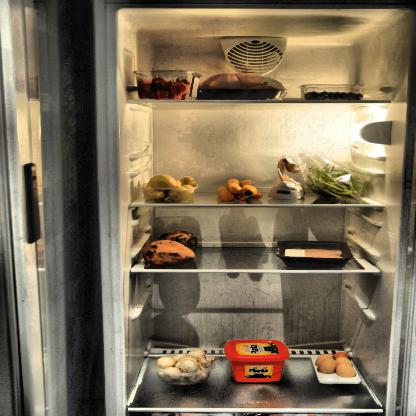blueberries: (301, 88, 367, 102)
butter: (224, 340, 291, 386)
carrot: (214, 178, 268, 204)
chicken: (198, 72, 286, 103), (285, 240, 343, 270)
eggs: (314, 350, 361, 378)
green_beans: (313, 154, 378, 206)
mushrooms: (155, 347, 218, 384)
potato: (140, 172, 198, 202)
strawberries: (136, 72, 192, 104)
sweet_potato: (142, 228, 200, 270)
